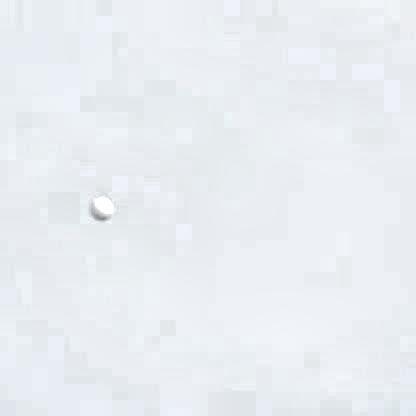golfball: (87, 190, 111, 218)
